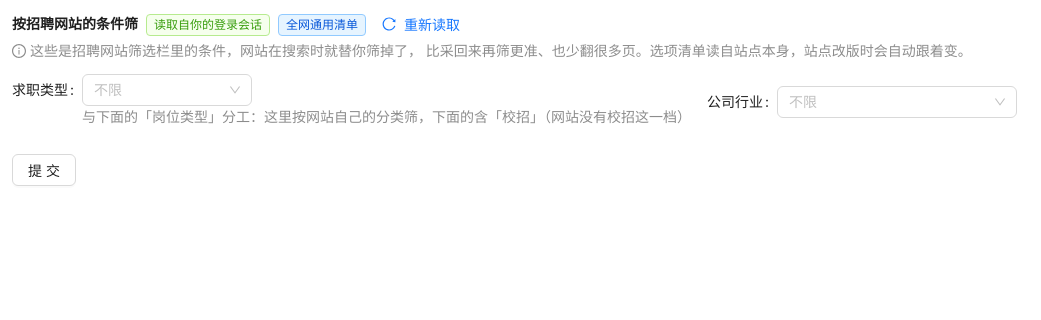
Test: CollectSiteFilters › 行业选项按一级分组展示，不铺成一长条
Step 1. Press the mouse on the dropdown named "站点筛选-公司行业" → (888, 102), box [789,87,987,117]
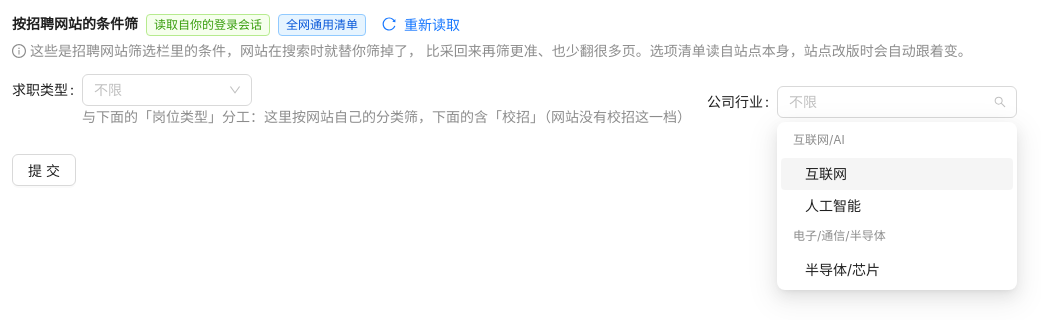
Check: the text "互联网/AI" is shown, box [793,132,845,147]
